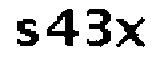3: (84, 6, 113, 50)
4: (45, 5, 81, 47)
s: (12, 15, 40, 50)
x: (114, 14, 147, 51)
